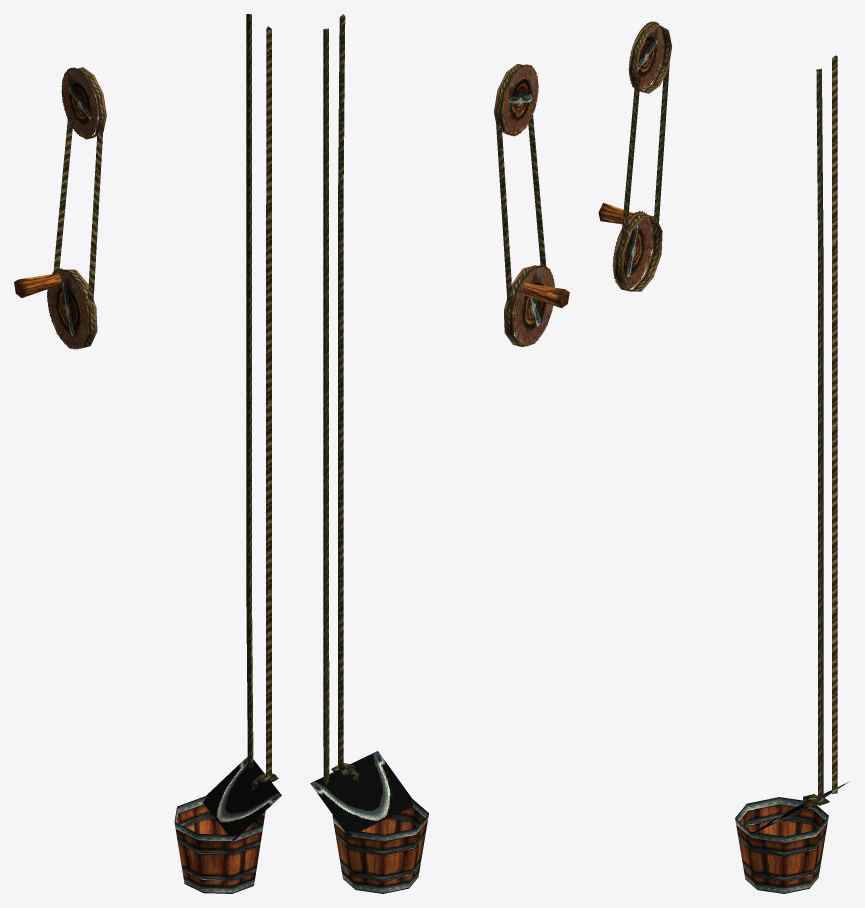
The model's file is PAULSWELLPARTS_ANI.obj.
3 renders of one model, left to right at view 1: azimuth 30°, elevation 25°; view 2: azimuth 150°, elevation 25°; view 3: azimuth 330°, elevation 25°, orthographic. The views are drawn at different scales.
Visible parts, largest first — view 1: PaulsWellBucket, sWellBuckRope01, ulsWellBuckRope, PaulsWellCrank, PaulsWellPulley, PaulsWellRopes; view 2: PaulsWellBucket, sWellBuckRope01, ulsWellBuckRope, PaulsWellCrank, PaulsWellPulley, PaulsWellRopes; view 3: PaulsWellBucket, sWellBuckRope01, ulsWellBuckRope, PaulsWellCrank, PaulsWellPulley, PaulsWellRopes.
Boxes of the visible parts, x1,y1,x2,y2 form: PaulsWellBucket: [174, 757, 281, 893]; sWellBuckRope01: [246, 14, 253, 768]; ulsWellBuckRope: [266, 26, 271, 776]; PaulsWellCrank: [14, 268, 97, 349]; PaulsWellPulley: [61, 67, 106, 139]; PaulsWellRopes: [53, 119, 103, 307]; PaulsWellBucket: [310, 751, 428, 893]; sWellBuckRope01: [323, 28, 329, 785]; ulsWellBuckRope: [338, 14, 345, 769]; PaulsWellCrank: [504, 265, 569, 346]; PaulsWellPulley: [494, 63, 538, 136]; PaulsWellRopes: [496, 115, 546, 310]; PaulsWellBucket: [735, 781, 849, 893]; sWellBuckRope01: [832, 55, 837, 793]; ulsWellBuckRope: [816, 69, 823, 805]; PaulsWellCrank: [598, 203, 662, 291]; PaulsWellPulley: [628, 21, 672, 93]; PaulsWellRopes: [620, 56, 669, 256].
Bounding box in the file's own units: 199 × 658 × 85.17.
